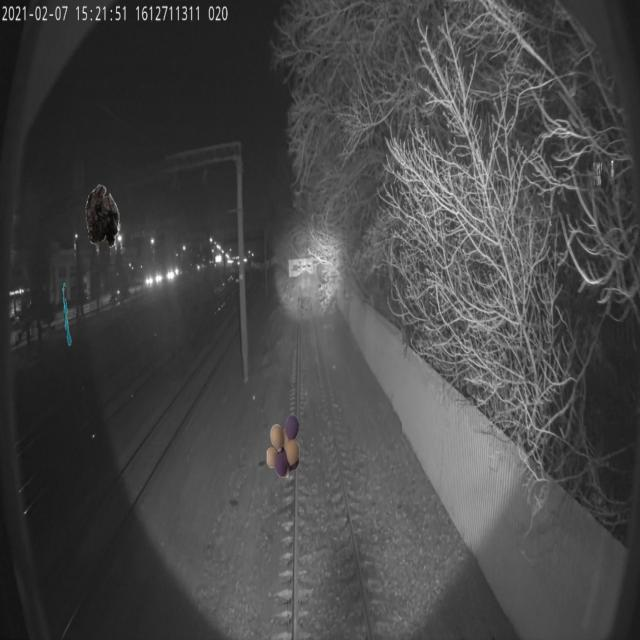balloon: (266, 413, 300, 478)
floating object: (62, 282, 72, 346)
plastic bag: (85, 184, 120, 248)
